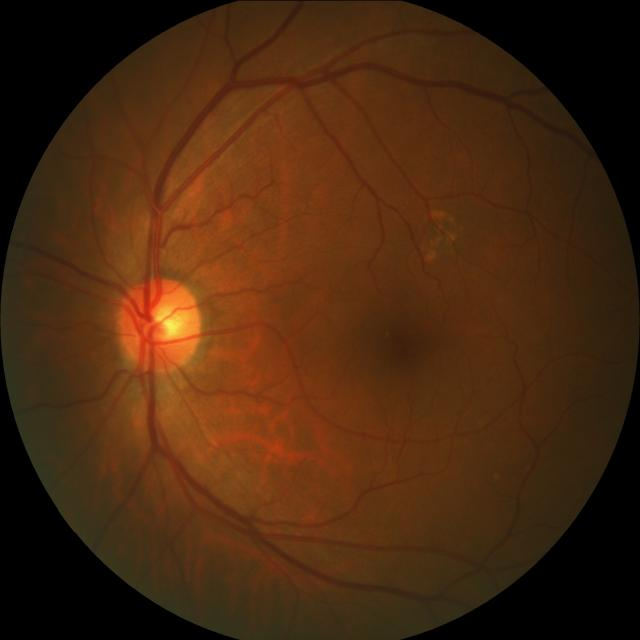OC: (146, 306, 179, 342)
OD: (118, 275, 205, 372)
